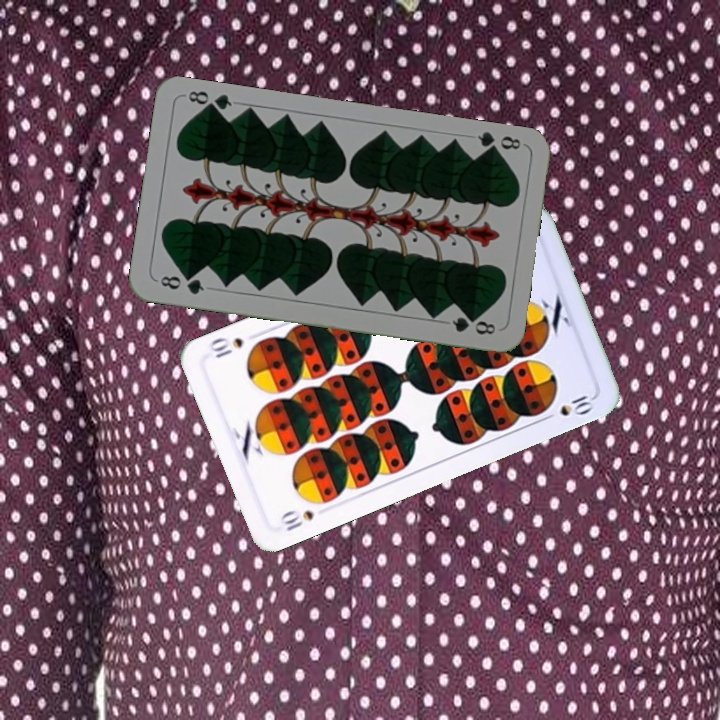G8: (473, 127, 524, 157), (156, 271, 207, 297)
S10: (276, 505, 317, 534)
